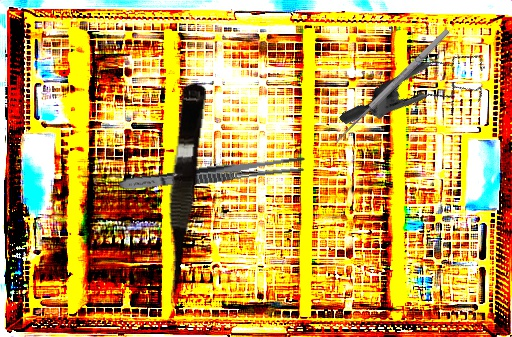Dressing Forceps: (117, 153, 307, 195)
Hook Surgical: (332, 26, 456, 150)
Micro Scissor: (155, 80, 208, 308)
Speculum: (338, 12, 502, 181)
